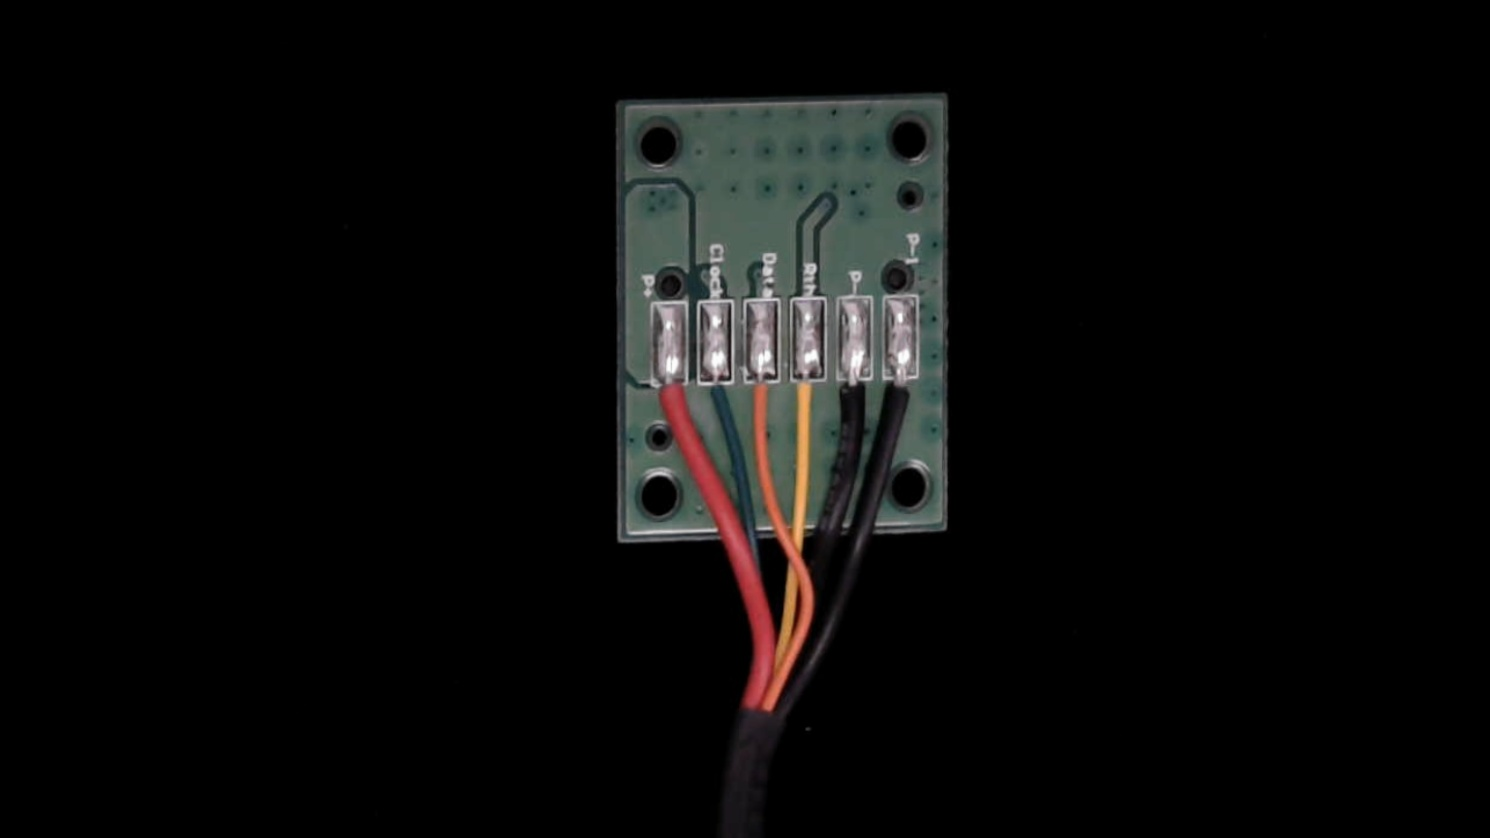Black: (836, 354, 871, 449)
Black1: (881, 358, 921, 448)
Green: (699, 363, 732, 444)
Orange: (744, 354, 783, 450)
Red: (654, 364, 692, 443)
Yellow: (788, 357, 827, 447)
